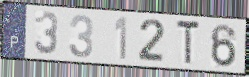1: (114, 15, 129, 62)
2: (137, 18, 168, 65)
3: (33, 10, 59, 57), (68, 13, 94, 59)
6: (210, 23, 238, 69)
T: (175, 18, 202, 67)
